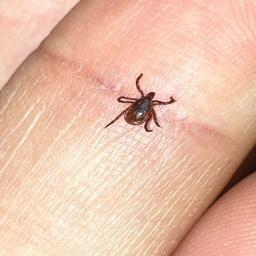Ixodes scapularis: (103, 74, 177, 131)
